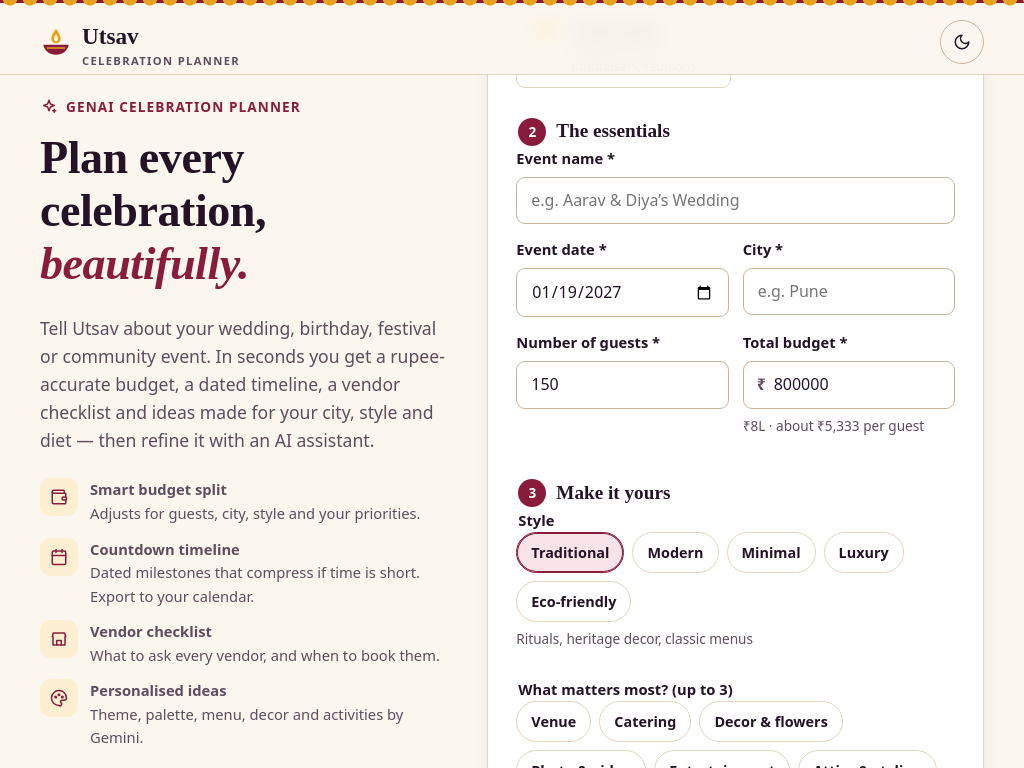
it: home & planner form › shows the per-guest budget hint as you type
(page scrolled)
Replace the text in the number field labelled "Number of guests *" with "100" at (622, 385), box x1=516 y1=361 x2=729 y2=409
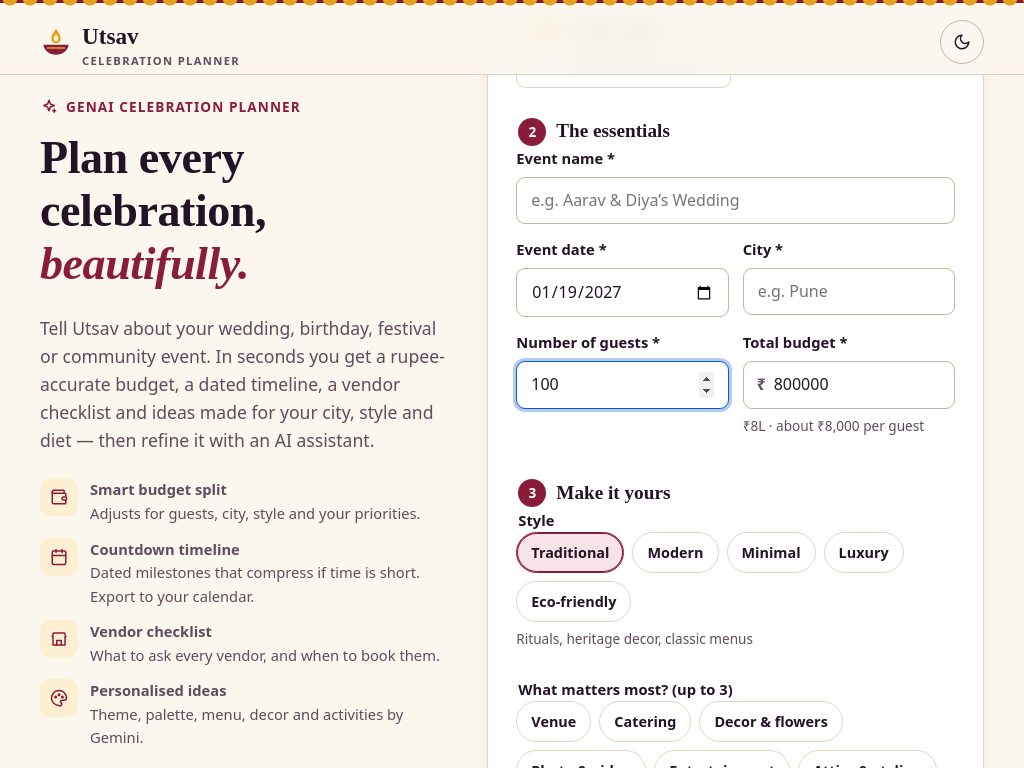
Result: the text "₹8L · about ₹8,000 per guest" is shown at x1=743 y1=414 x2=955 y2=436
